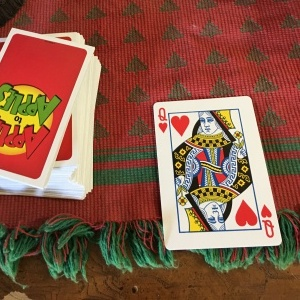card: (153, 94, 283, 249)
